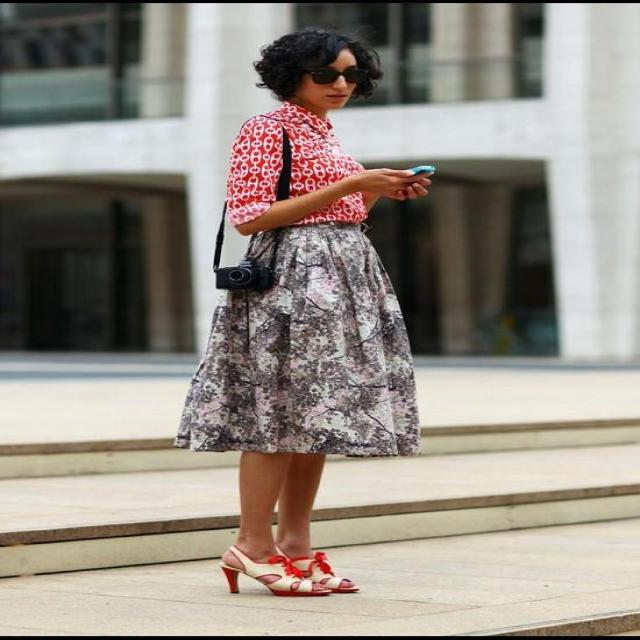shirt: (227, 103, 368, 229)
skirt: (174, 223, 424, 457)
